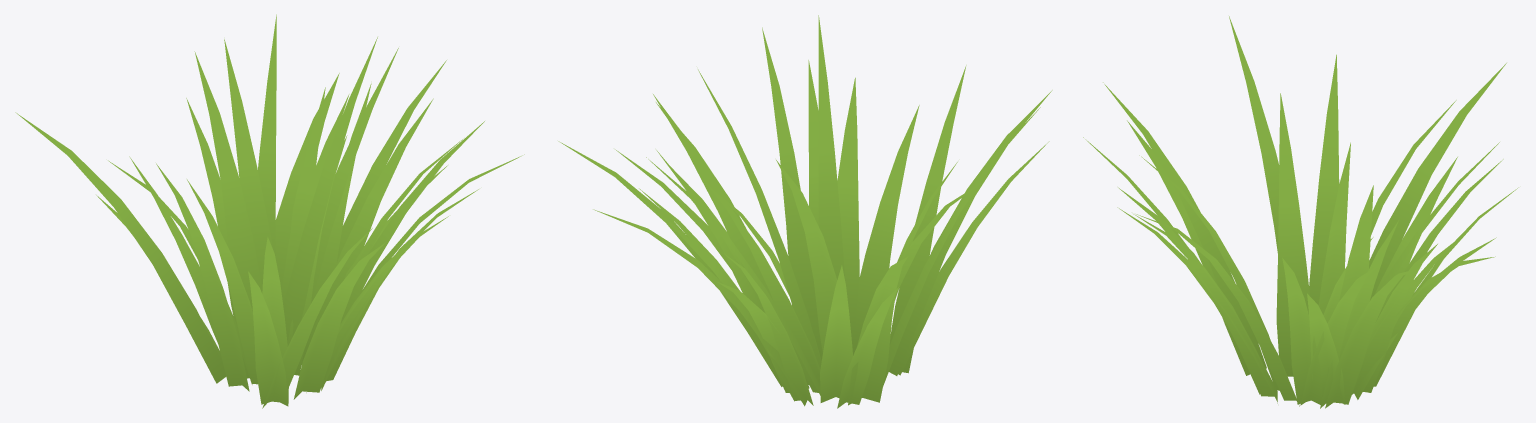
The model's file is grass_tuft1_s31707.gltf.
3 renders of one model, left to right at view 1: azimuth 30°, elevation 25°; view 2: azimuth 150°, elevation 25°; view 3: azimuth 270°, elevation 25°, orthographic. The views are drawn at different scales.
Parts seen in each view (by area): view 1: grass_tuft1_s31707_blade_LOD0; view 2: grass_tuft1_s31707_blade_LOD0; view 3: grass_tuft1_s31707_blade_LOD0.
Boxes of the visible parts, bbox=[...] form: grass_tuft1_s31707_blade_LOD0: bbox=[15, 14, 524, 408]; grass_tuft1_s31707_blade_LOD0: bbox=[558, 15, 1052, 408]; grass_tuft1_s31707_blade_LOD0: bbox=[1083, 16, 1518, 408].
Size of what is drawn, in the model's own units: 0.5135 by 0.3752 by 0.4895.
